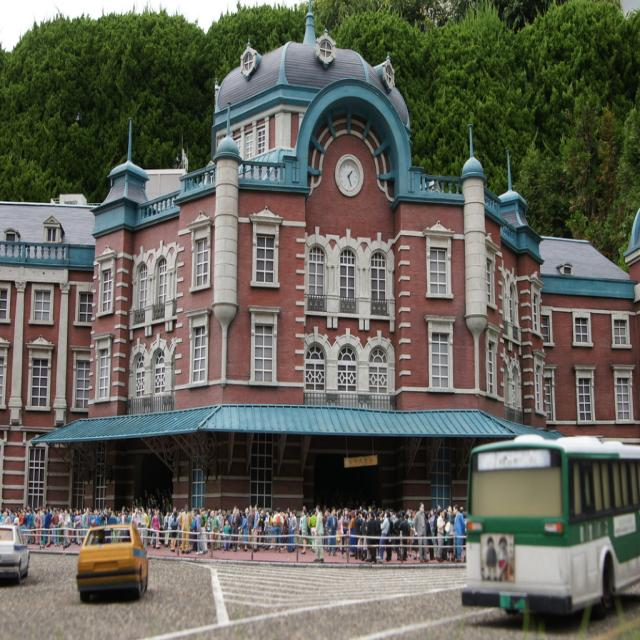car: (70, 524, 144, 604)
